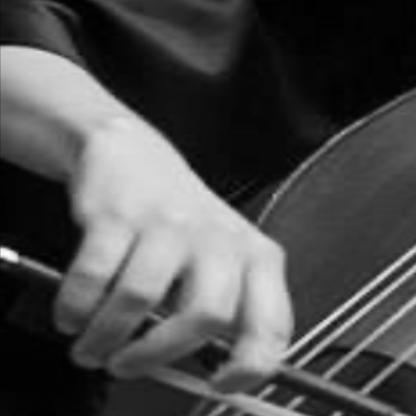good: (27, 178, 301, 400)
